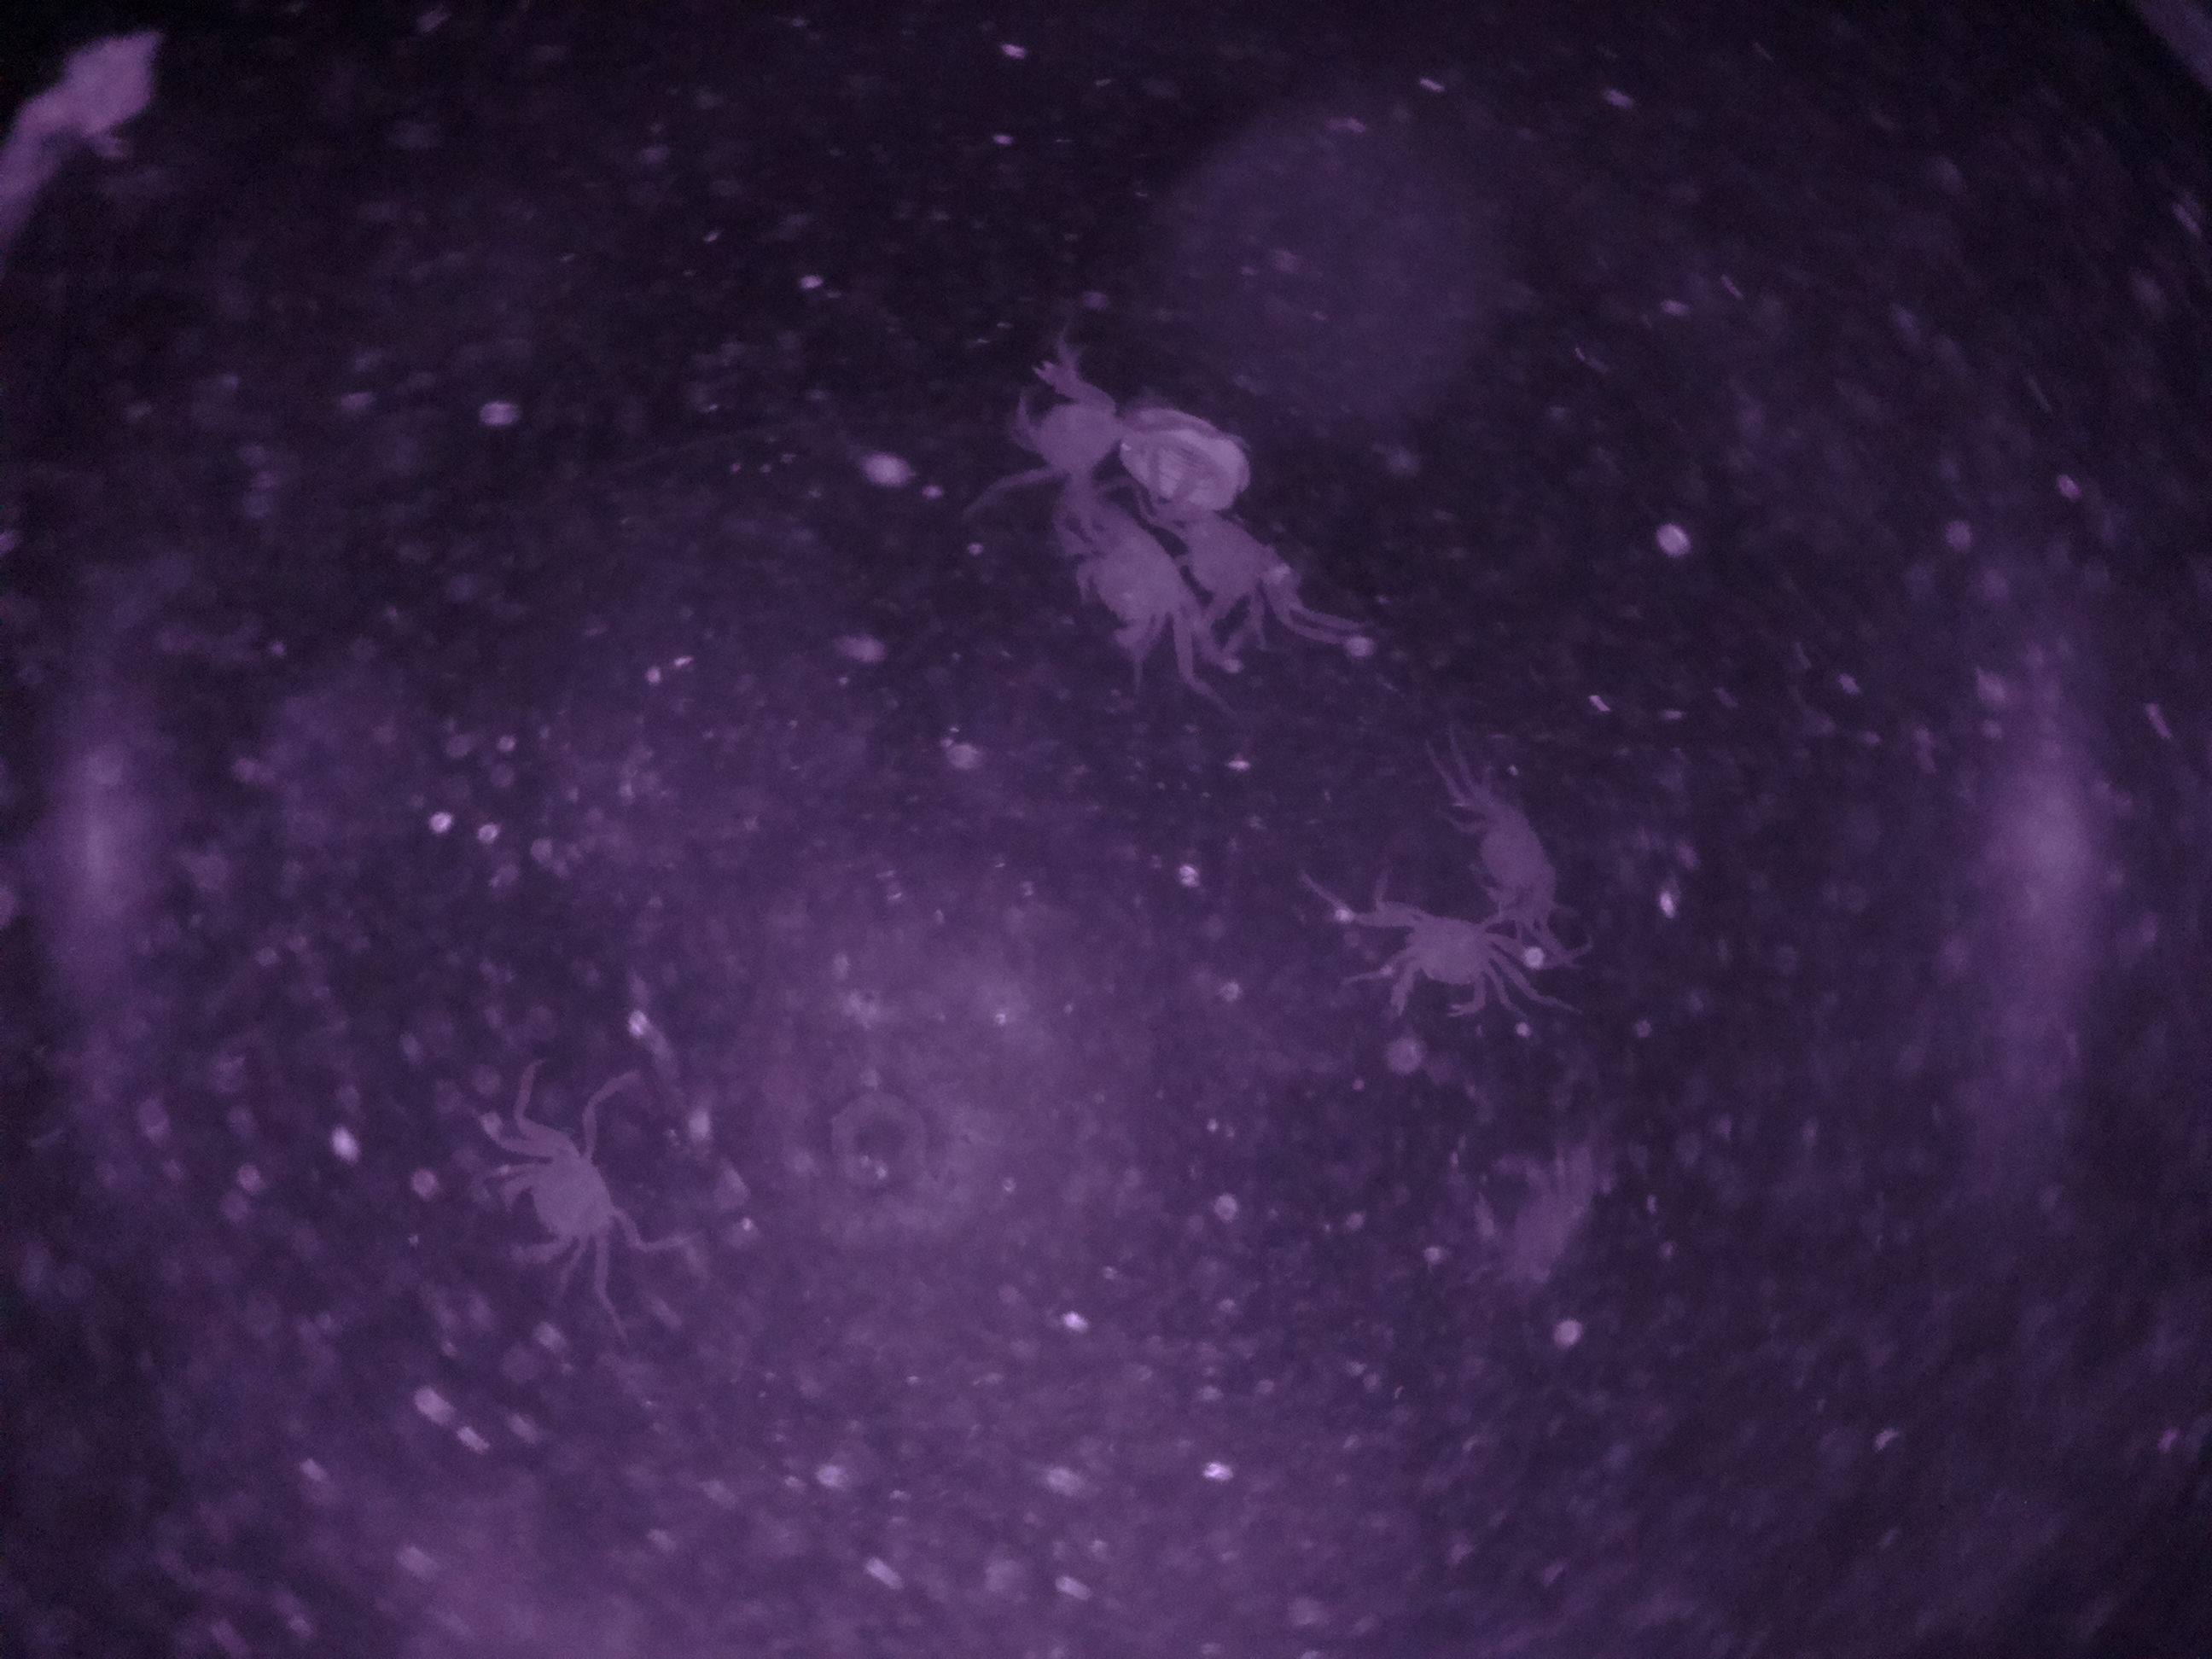Crab: (1329, 864, 1571, 1032), (493, 1073, 669, 1300)
